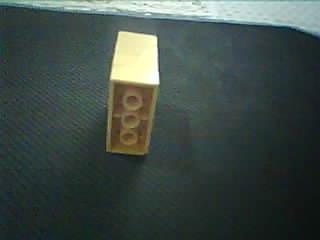lego: (104, 30, 160, 156)
